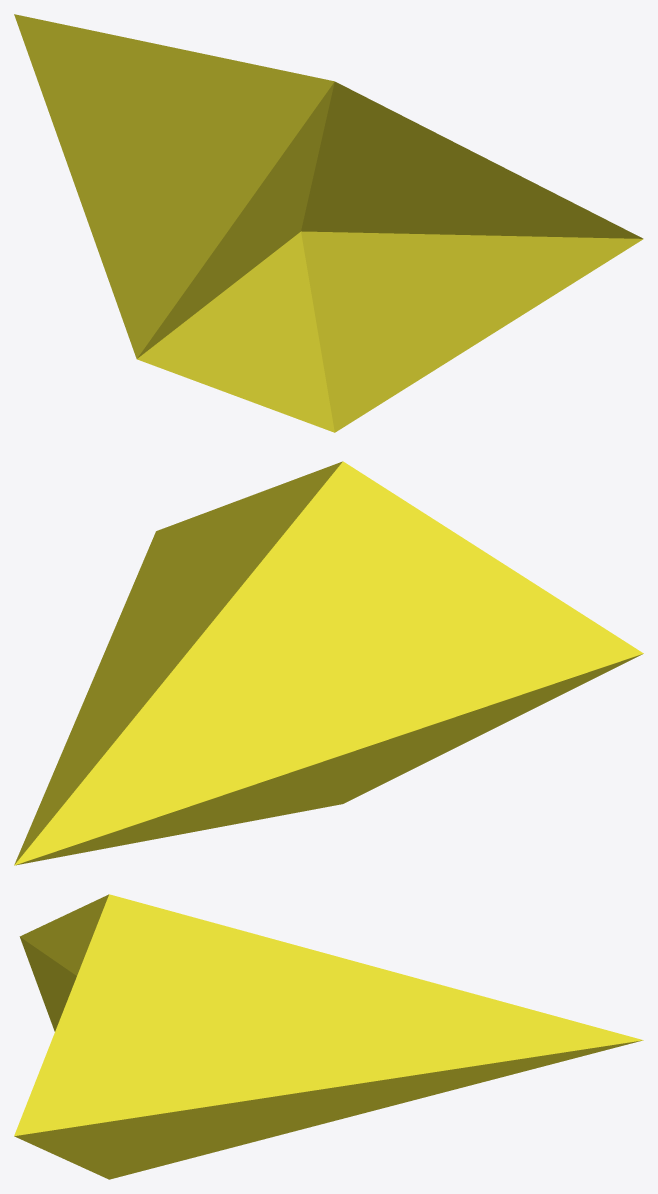
The model's file is gps arroweee.fbx.
3 views of the same model, one above another, from view 1: azimuth 30°, elevation 25°; view 2: azimuth 150°, elevation 25°; view 3: azimuth 270°, elevation 25° (orthographic). The views are drawn at different scales.
Visible parts, largest first — view 1: Object_1.003; view 2: Object_1.003; view 3: Object_1.003.
Part boxes in pixels (box(x1,y1,x2,y2)): Object_1.003: box(14, 14, 643, 432); Object_1.003: box(14, 461, 643, 865); Object_1.003: box(14, 894, 643, 1179).
Size of the model in its own units: 3 by 2 by 4.
